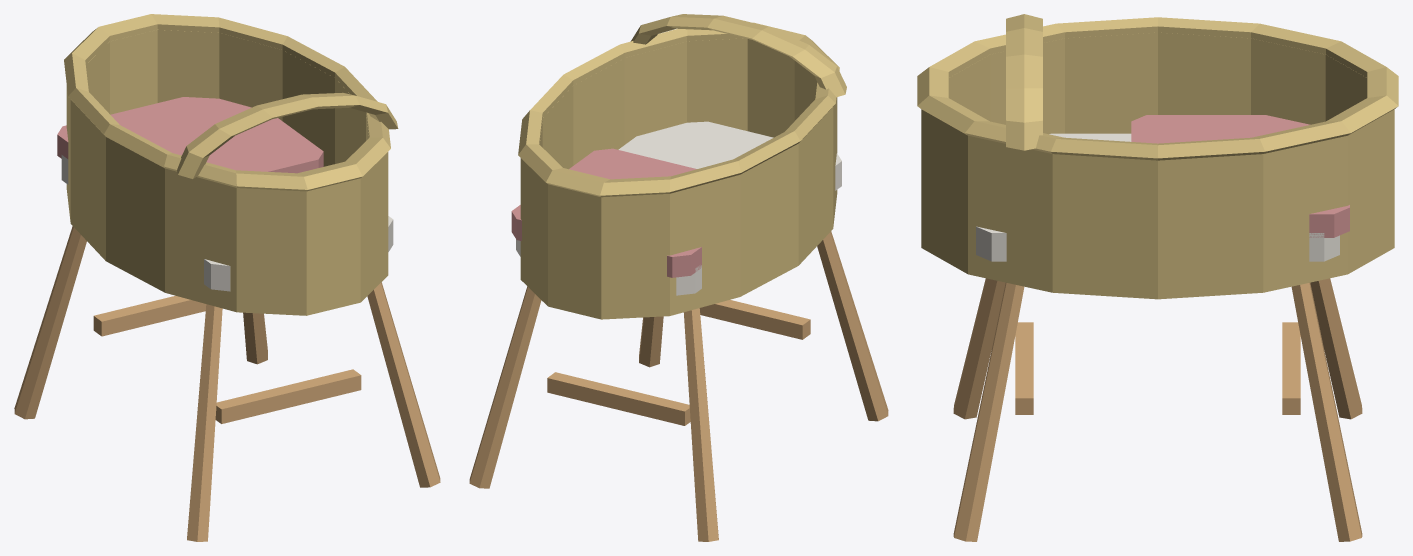
The model's file is SM_LPI_Bed_Bassinet_01.fbx.
3 renders of one model, left to right at view 1: azimuth 30°, elevation 25°; view 2: azimuth 150°, elevation 25°; view 3: azimuth 270°, elevation 25°, orthographic. The views are drawn at different scales.
Visible parts, largest first — view 1: SM_LPI_Bed_Bassinet_01; view 2: SM_LPI_Bed_Bassinet_01; view 3: SM_LPI_Bed_Bassinet_01.
Boxes of the visible parts, x1,y1,x2,y2 form: SM_LPI_Bed_Bassinet_01: [14, 14, 440, 541]; SM_LPI_Bed_Bassinet_01: [469, 14, 888, 541]; SM_LPI_Bed_Bassinet_01: [917, 14, 1398, 541].
Bounding box in the file's own units: 0.6253 × 0.9227 × 0.9218.
